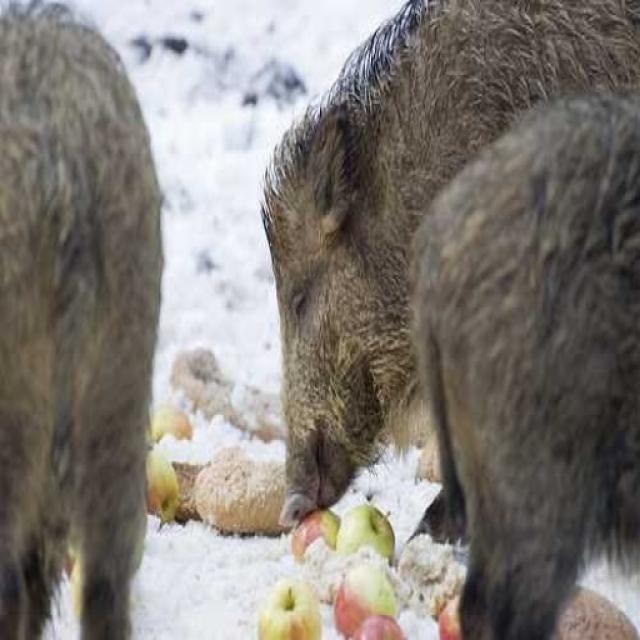pig: (229, 0, 640, 640), (418, 82, 640, 613), (0, 0, 185, 632)
